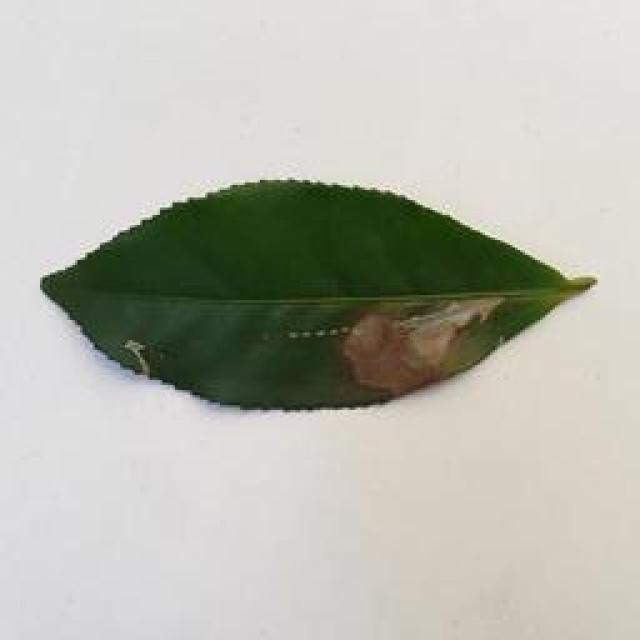Gray Blight: (31, 176, 603, 422)
